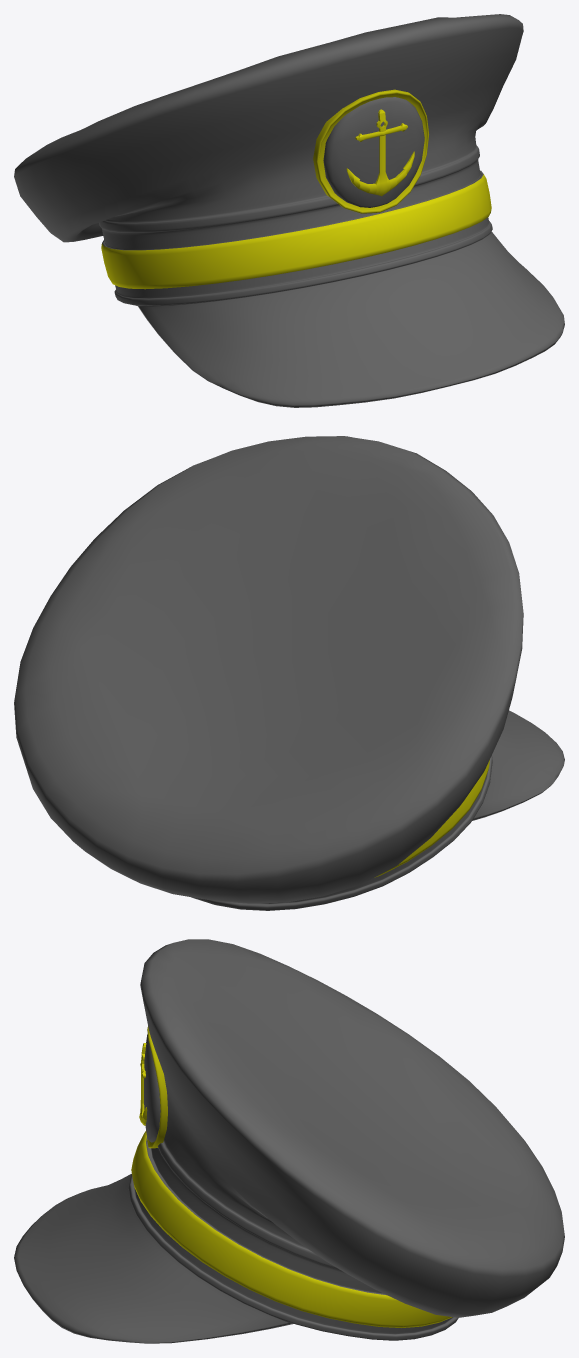
File: Commander.fbx
3 renders of one model, top to bottom at view 1: azimuth 30°, elevation 25°; view 2: azimuth 150°, elevation 25°; view 3: azimuth 270°, elevation 25°, orthographic. The views are drawn at different scales.
Parts seen in each view (by area): view 1: pCylinder1, pSphere2, pSphere1, pCube1; view 2: pCylinder1; view 3: pCylinder1, pSphere2, pSphere1.
Part boxes in pixels (x1,y1,x2,y2): pCylinder1: (14,14,564,407); pSphere2: (323,97,424,207); pSphere1: (313,89,429,213); pCube1: (346,109,414,196); pCylinder1: (14,436,564,910); pCylinder1: (14,939,564,1343); pSphere2: (144,1034,160,1142); pSphere1: (147,1026,167,1148).
Size of the model in its own units: 4.25 by 3.06 by 4.65.
